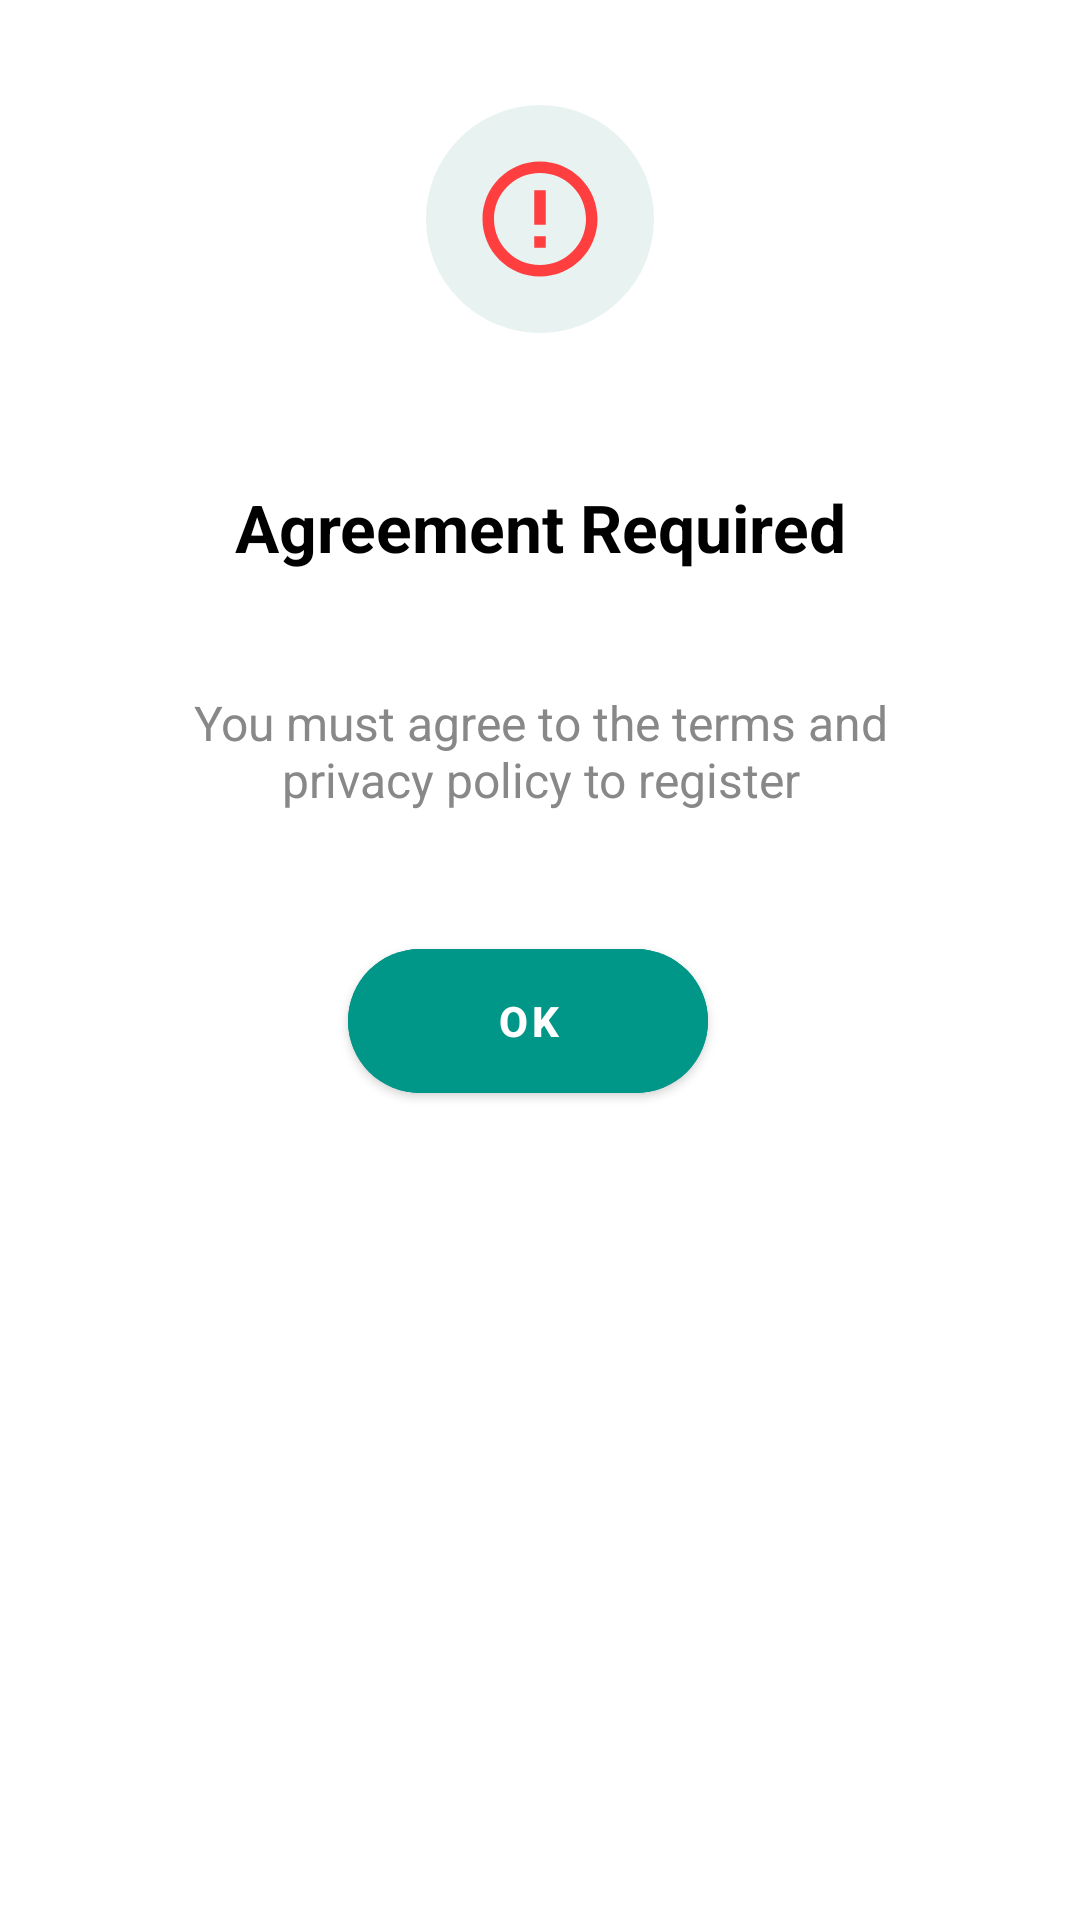

Named icons in this screenshot (1080w x 1920h) and their bounding boxes, box(x1, y1, x2, y2):
alert: box(426, 105, 654, 333)
